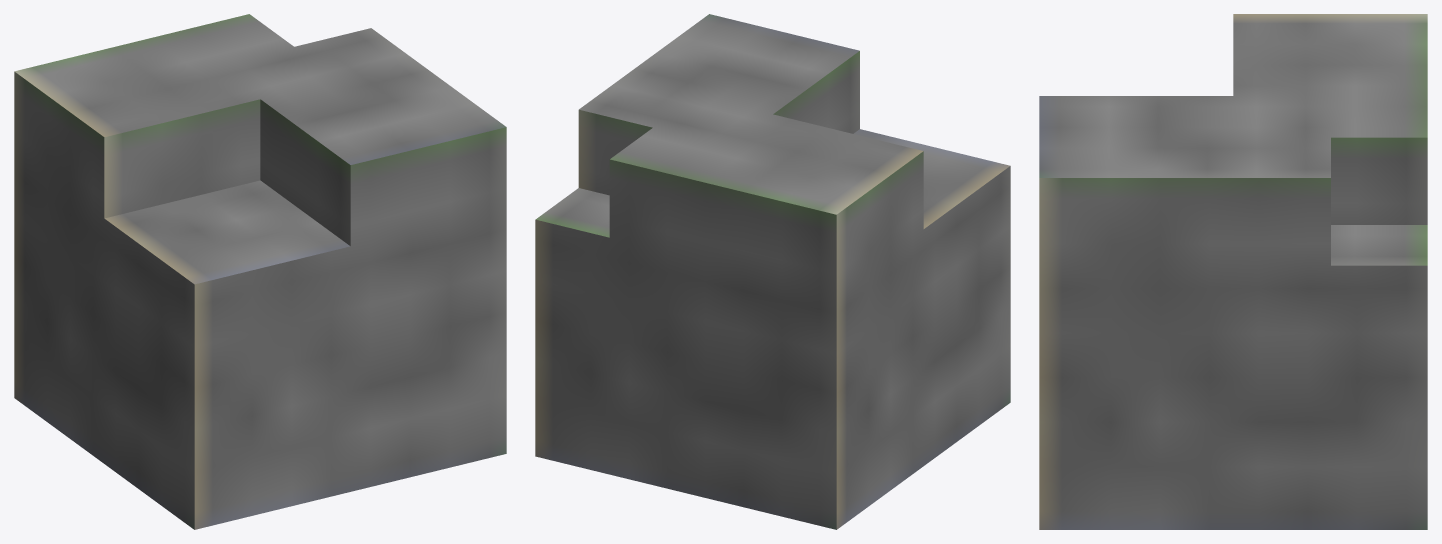
The model's file is Stone_Destroy_Step1.fbx.
3 renders of one model, left to right at view 1: azimuth 30°, elevation 25°; view 2: azimuth 150°, elevation 25°; view 3: azimuth 270°, elevation 25°, orthographic. The views are drawn at different scales.
Visible parts, largest first — view 1: Stone_Destroy_Step1; view 2: Stone_Destroy_Step1; view 3: Stone_Destroy_Step1.
Part boxes in pixels (x1,y1,x2,y2): Stone_Destroy_Step1: (14,14,506,529); Stone_Destroy_Step1: (535,14,1010,529); Stone_Destroy_Step1: (1039,14,1427,529).
Size of the model in its own units: 25 by 25 by 25.
1 material, 1 textured.
